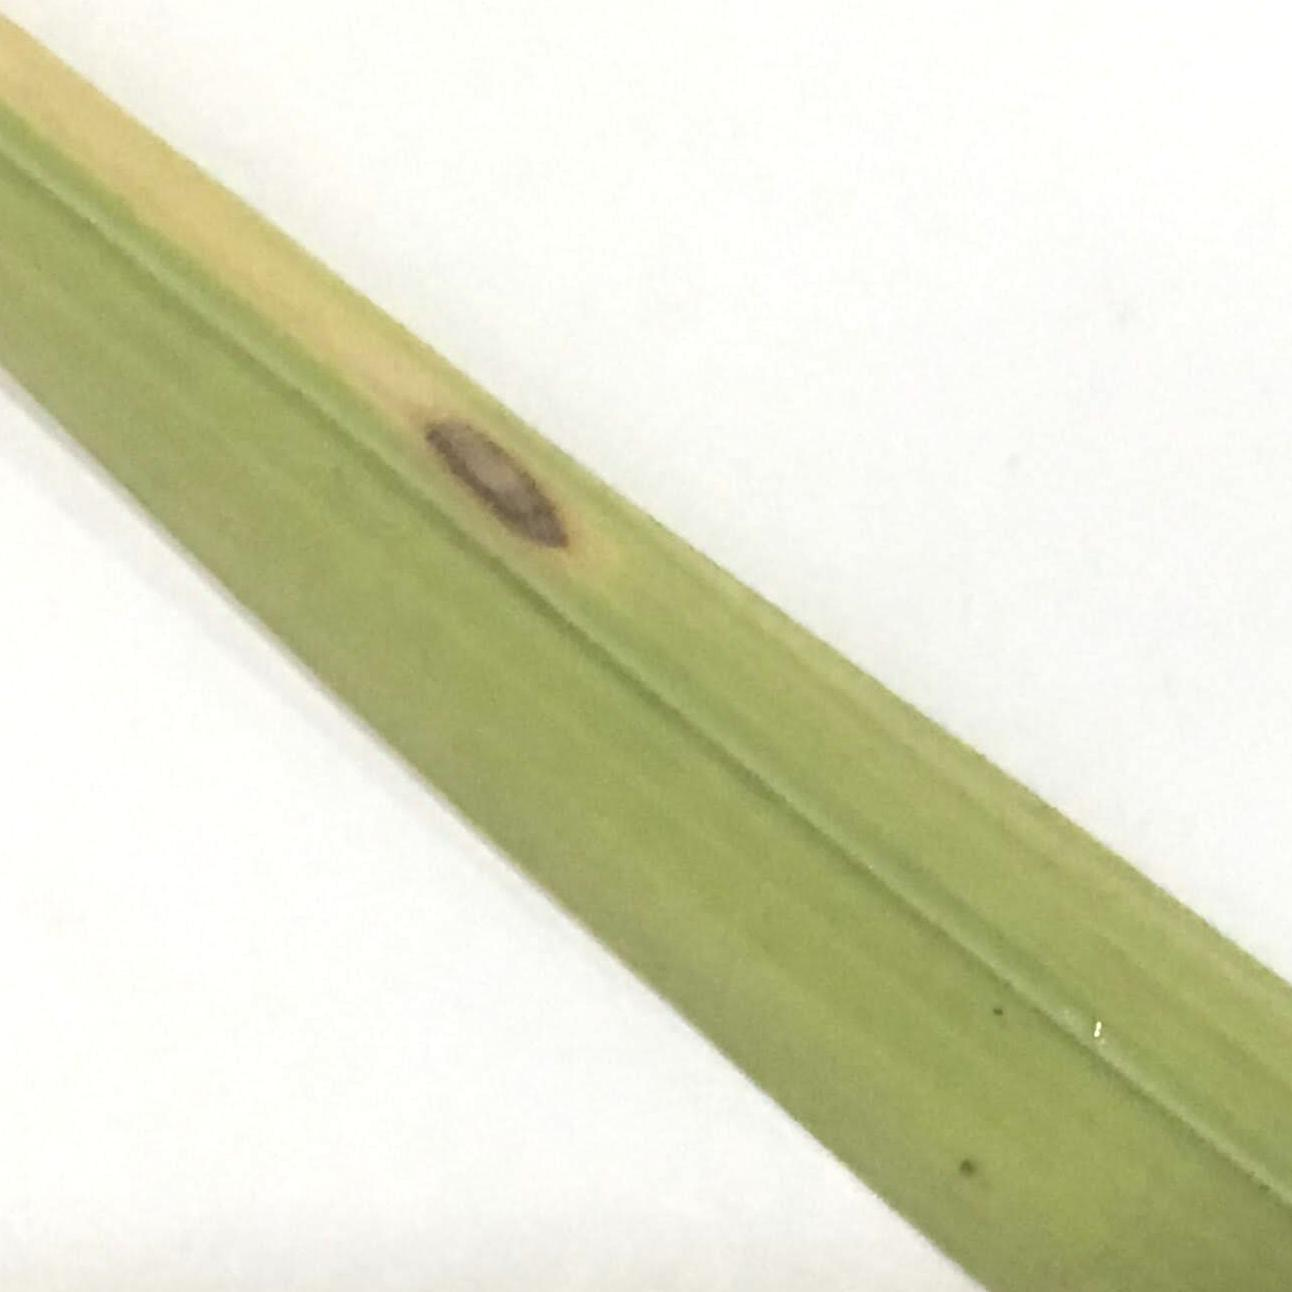1 RiceBlast: (407, 377, 600, 587)
